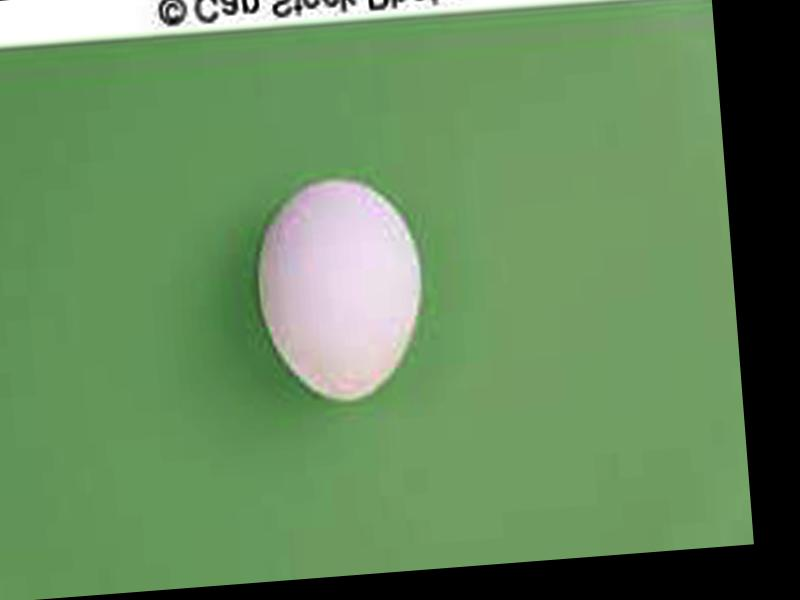Eggs: (252, 175, 427, 406)
